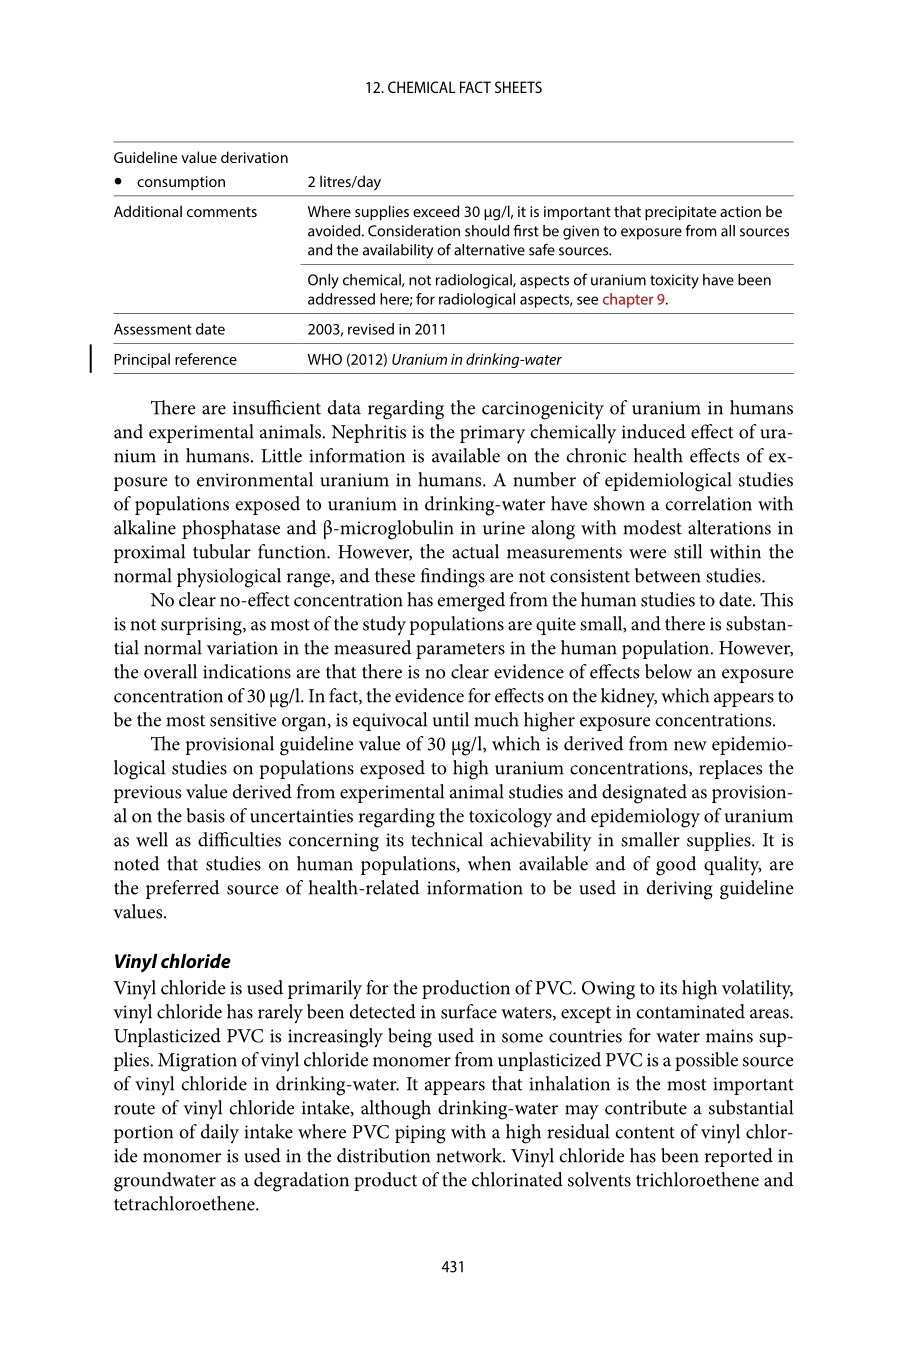partial_lined: (113, 140, 794, 375)
